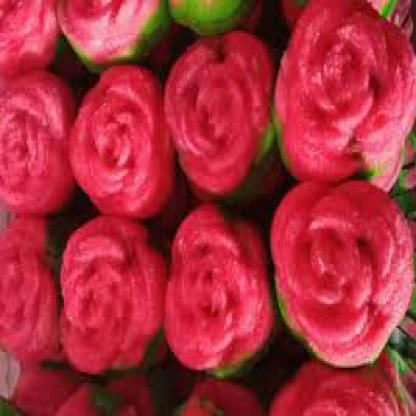Rose-Mawar: (1, 3, 409, 415)
